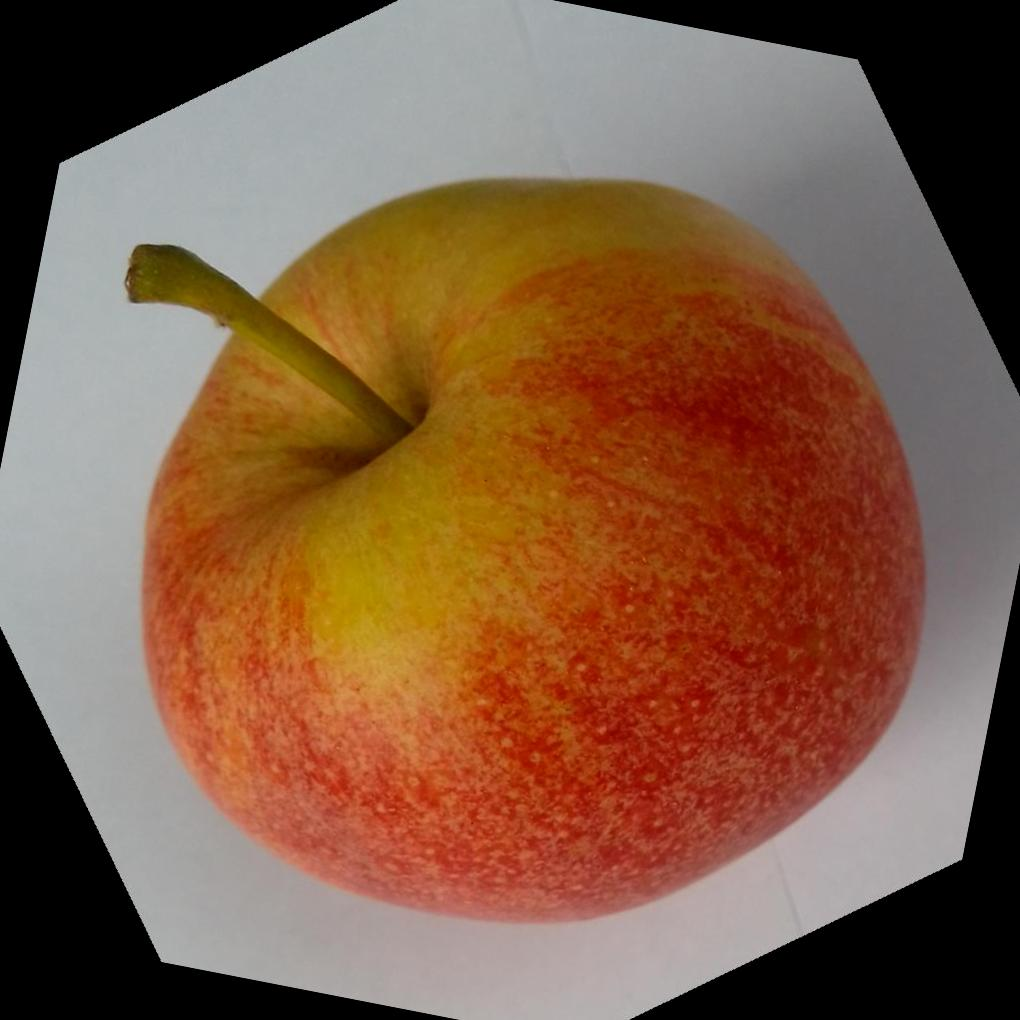FreshGuava: (121, 169, 929, 923)
